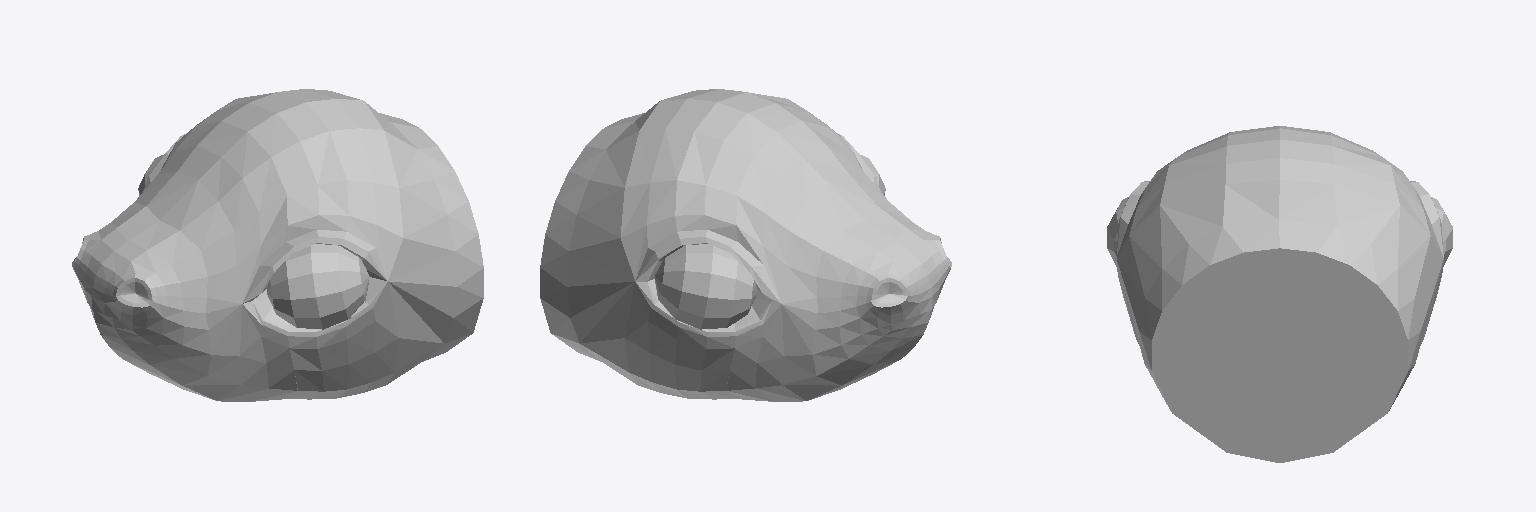
Rendered from SnekHeadBlueLP.obj.
3 renders of one model, left to right at view 1: azimuth 30°, elevation 25°; view 2: azimuth 150°, elevation 25°; view 3: azimuth 270°, elevation 25°, orthographic.
Parts seen in each view (by area): view 1: Kopp, Unterkiefer, EyeLeft; view 2: Kopp, Unterkiefer, EyeRight; view 3: Kopp, EyeLeft.
Part boxes in pixels (x1,y1,x2,y2): Kopp: (72, 89, 483, 399); Unterkiefer: (90, 307, 297, 401); EyeLeft: (267, 244, 369, 329); Kopp: (540, 89, 951, 399); Unterkiefer: (726, 307, 933, 401); EyeRight: (655, 244, 756, 329); Kopp: (1116, 126, 1443, 462); EyeLeft: (1107, 197, 1128, 266).
Size of the model in its own units: 0.5511 by 0.4539 by 0.5037.